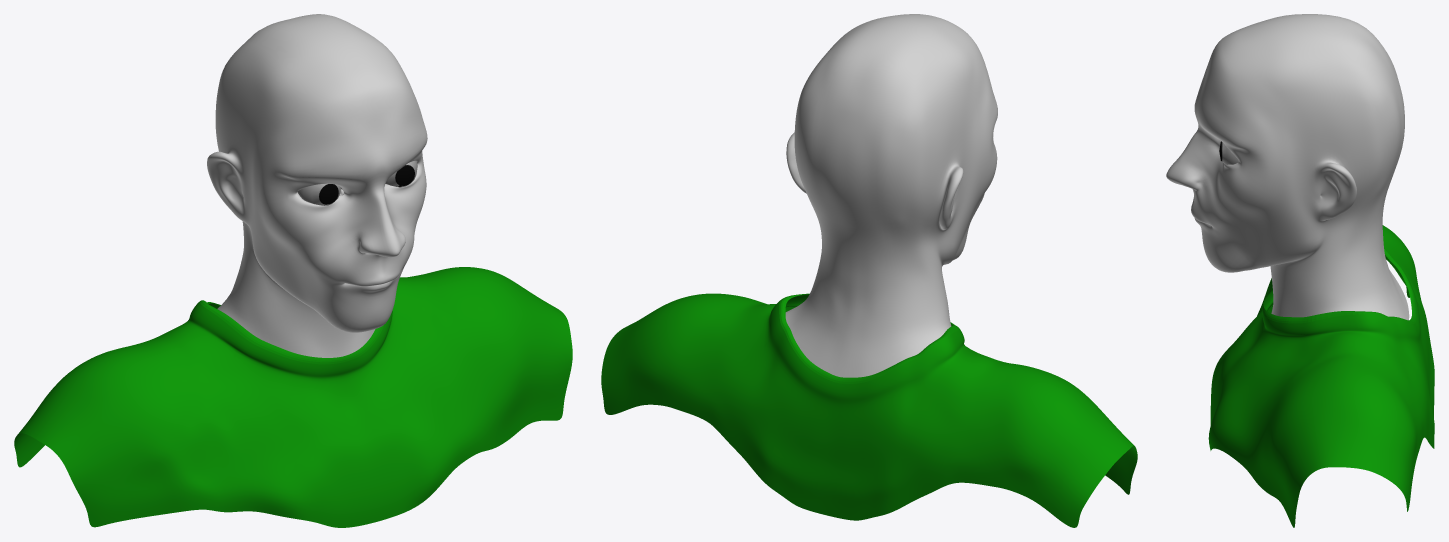
The model's file is character final .fbx.
3 renders of one model, left to right at view 1: azimuth 30°, elevation 25°; view 2: azimuth 150°, elevation 25°; view 3: azimuth 270°, elevation 25°, orthographic. The views are drawn at different scales.
Visible parts, largest first — view 1: CC_Base_Body.002, CC_Base_Body.001, Sphere; view 2: CC_Base_Body.002, CC_Base_Body.001; view 3: CC_Base_Body.001, CC_Base_Body.002.
Boxes of the visible parts, box(x1,y1,x2,y2) form: CC_Base_Body.002: box(14, 267, 572, 527); CC_Base_Body.001: box(207, 14, 427, 357); Sphere: box(297, 160, 417, 205); CC_Base_Body.002: box(601, 293, 1137, 527); CC_Base_Body.001: box(785, 14, 997, 377); CC_Base_Body.001: box(1166, 14, 1409, 320); CC_Base_Body.002: box(1208, 225, 1434, 527).
Bounding box in the file's own units: 2329 × 1935 × 1136.
